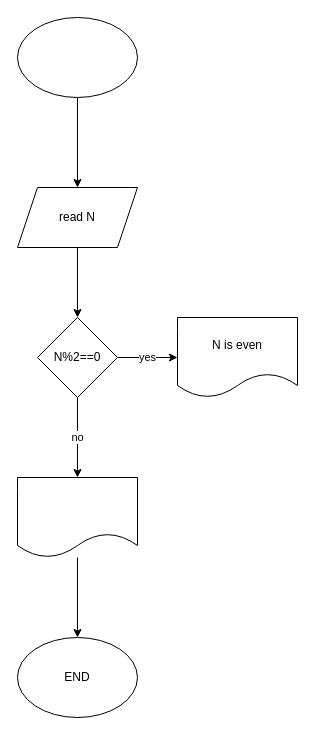
This 315x735 diagram has some shape labels left out. The shapes that lost their labels are listed below. From the top down, each one's centre as x and y in pixels, then its label:
pixel 77 57: START
pixel 77 517: N is odd
